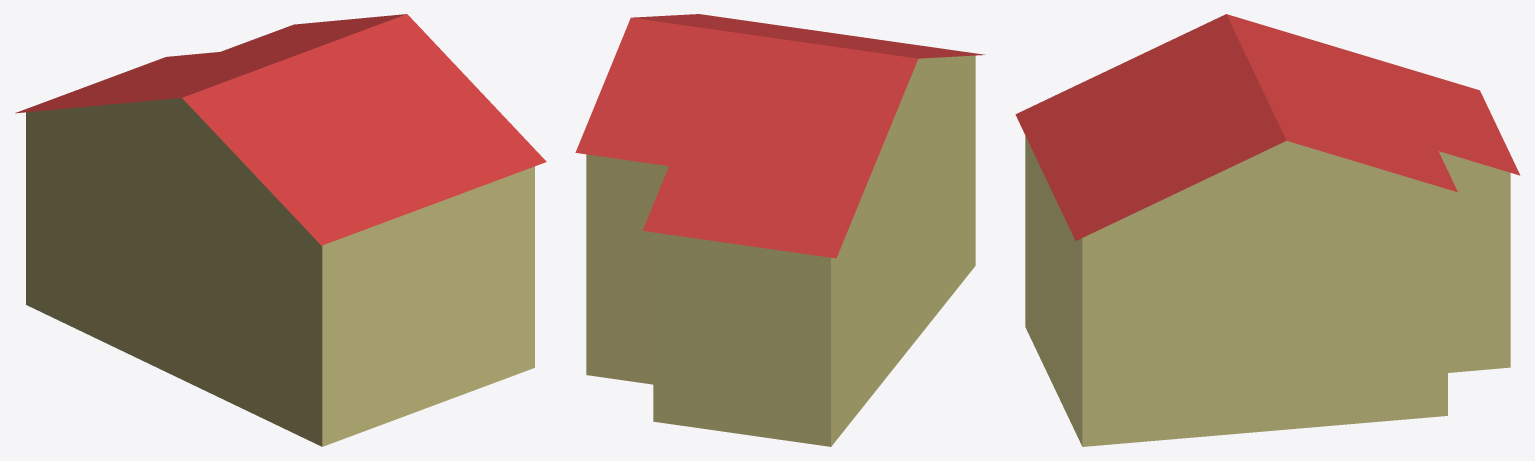
3 views of the same model, side by side, from view 1: azimuth 30°, elevation 25°; view 2: azimuth 150°, elevation 25°; view 3: azimuth 270°, elevation 25° (orthographic).
Bounding box in the file's own units: 11.48 × 14.74 × 9.42.
